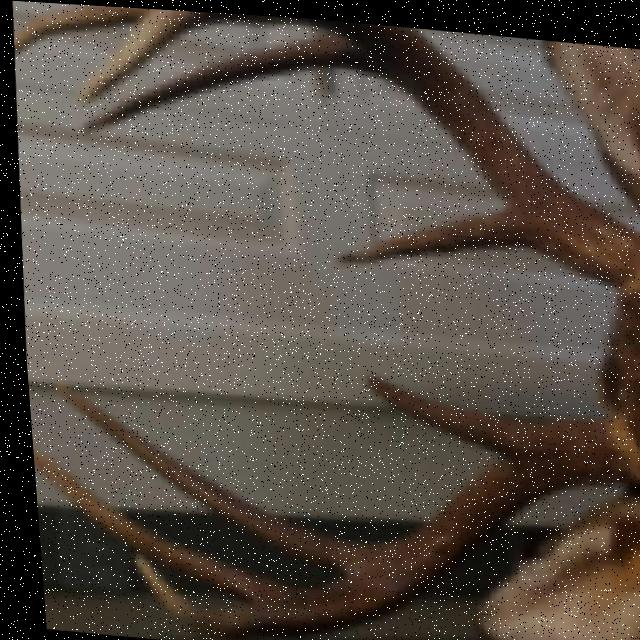L-F: (123, 407, 623, 631)
L-G1: (356, 368, 522, 450)
L-G2: (49, 380, 367, 570)
L-G3: (26, 448, 283, 603)
R-G1: (329, 201, 532, 261)
R-G2: (78, 29, 386, 134)
R-G3: (12, 4, 143, 58)
R-G4: (72, 7, 640, 280)
